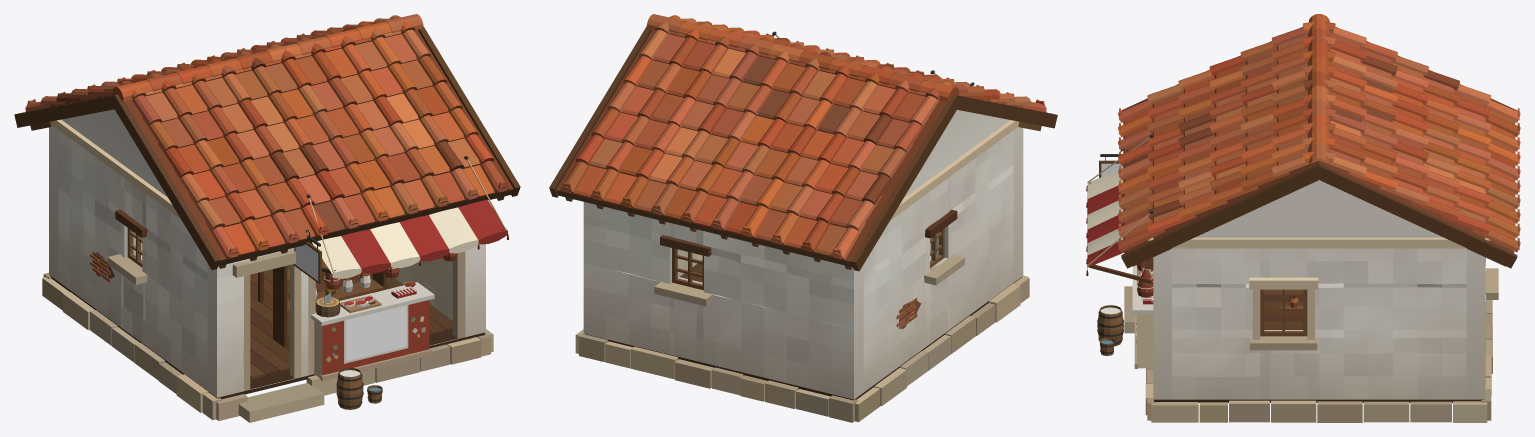
File: shop_butcher.glb
3 views of the same model, side by side, from view 1: azimuth 30°, elevation 25°; view 2: azimuth 150°, elevation 25°; view 3: azimuth 270°, elevation 25° (orthographic).
Visible parts, largest first — view 1: House, Walls, Rooms; view 2: House, Walls; view 3: House, Walls, Rooms.
Boxes of the visible parts, left/top/right/bottom form: House: left=14, top=14, right=520, bottom=422; Walls: left=49, top=109, right=485, bottom=397; Rooms: left=141, top=237, right=452, bottom=379; House: left=549, top=14, right=1057, bottom=422; Walls: left=583, top=110, right=1023, bottom=399; House: left=1086, top=14, right=1520, bottom=422; Walls: left=1153, top=180, right=1486, bottom=399; Rooms: left=1264, top=289, right=1303, bottom=329.
Bounding box in the file's own units: 4.09 × 3.48 × 5.1.
7 materials, 7 textured.
